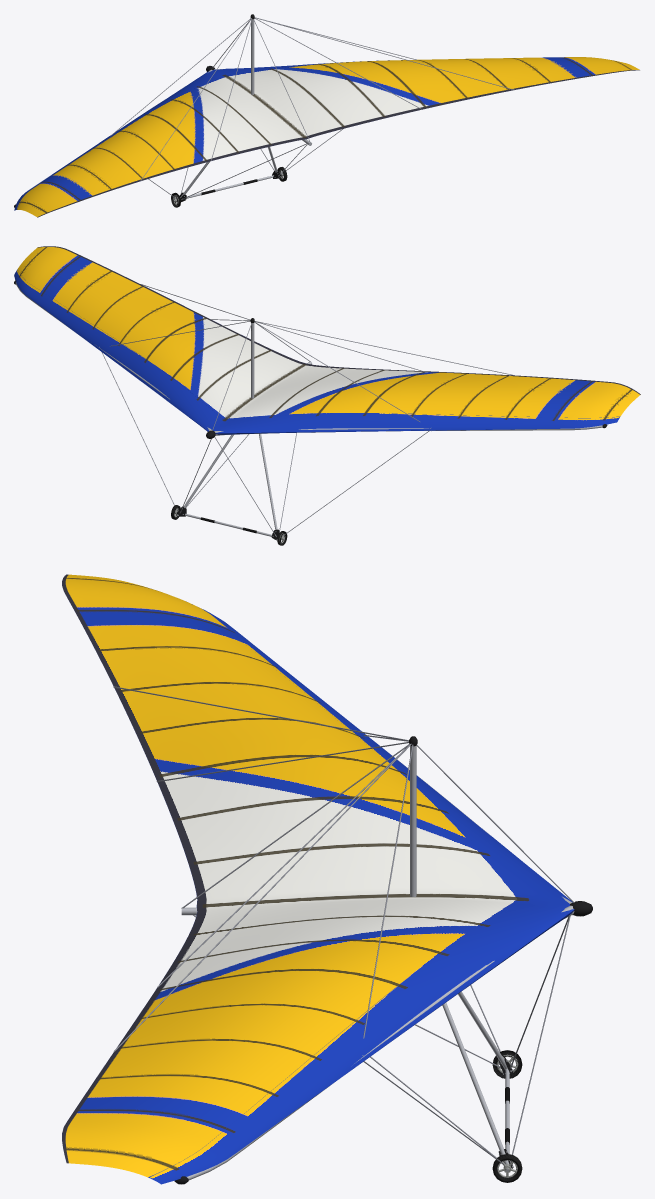
Rendered from glider_training.glb.
3 renders of one model, top to bottom at view 1: azimuth 30°, elevation 25°; view 2: azimuth 150°, elevation 25°; view 3: azimuth 270°, elevation 25°, orthographic. The views are drawn at different scales.
Parts seen in each view (by area): view 1: Sail, Frame, ControlFrame; view 2: Sail, Frame, ControlFrame; view 3: Sail, Frame, ControlFrame.
Boxes of the visible parts, bbox=[...] form: Sail: bbox=[14, 57, 639, 217]; Frame: bbox=[14, 14, 514, 207]; ControlFrame: bbox=[148, 129, 342, 207]; Sail: bbox=[14, 246, 640, 434]; Frame: bbox=[14, 280, 607, 438]; ControlFrame: bbox=[101, 352, 429, 545]; Sail: bbox=[62, 574, 574, 1184]; Frame: bbox=[113, 686, 592, 1184]; ControlFrame: bbox=[193, 915, 570, 1182].
Size of the model in its own units: 9.3 by 2.9 by 3.54.
Materials: 10 (2 with a texture image).
